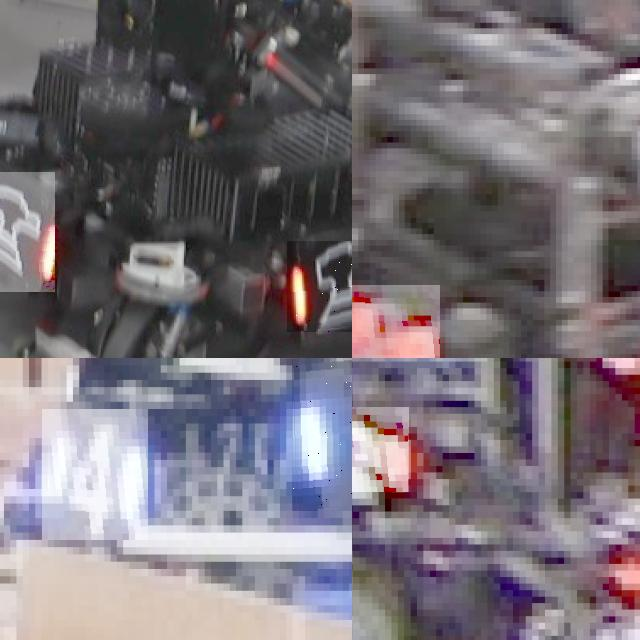B3: (292, 358, 352, 511)
B4: (42, 409, 148, 540)
R2: (352, 285, 439, 358), (352, 407, 410, 492)
Rs: (0, 172, 55, 291), (287, 241, 352, 332)
